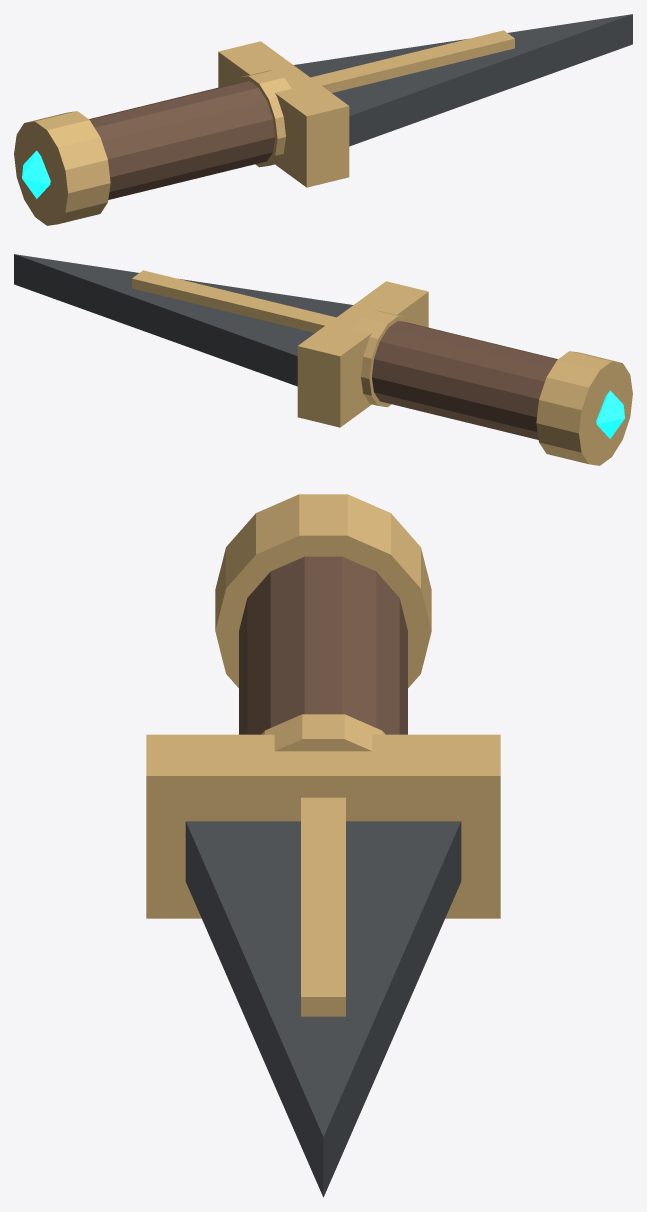
File: SM_MKG_AetherKnife_A01.fbx
3 renders of one model, top to bottom at view 1: azimuth 30°, elevation 25°; view 2: azimuth 150°, elevation 25°; view 3: azimuth 270°, elevation 25°, orthographic. The views are drawn at different scales.
Visible parts, largest first — view 1: Blade_DarkIron_BroadTri, Grip_Leather_Wrap, Guard_Brass_Block, Pommel_Brass_Cap, Blade_Spine_Brass, Grip_Brass_EndBand, Aetherium_Pommel_Inset; view 2: Blade_DarkIron_BroadTri, Grip_Leather_Wrap, Guard_Brass_Block, Pommel_Brass_Cap, Blade_Spine_Brass, Grip_Brass_EndBand, Aetherium_Pommel_Inset; view 3: Blade_DarkIron_BroadTri, Guard_Brass_Block, Grip_Leather_Wrap, Pommel_Brass_Cap, Blade_Spine_Brass, Grip_Brass_EndBand.
Part boxes in pixels (x1,y1,x2,y2): Blade_DarkIron_BroadTri: [294, 14, 632, 146]; Grip_Leather_Wrap: [89, 81, 274, 199]; Guard_Brass_Block: [218, 41, 349, 187]; Pommel_Brass_Cap: [14, 111, 110, 225]; Blade_Spine_Brass: [310, 30, 514, 92]; Grip_Brass_EndBand: [236, 70, 291, 167]; Aetherium_Pommel_Inset: [22, 150, 50, 198]; Blade_DarkIron_BroadTri: [14, 254, 352, 386]; Grip_Leather_Wrap: [372, 321, 557, 439]; Guard_Brass_Block: [297, 281, 428, 427]; Pommel_Brass_Cap: [536, 351, 632, 465]; Blade_Spine_Brass: [132, 270, 336, 332]; Grip_Brass_EndBand: [355, 310, 410, 407]; Aetherium_Pommel_Inset: [596, 390, 624, 438]; Blade_DarkIron_BroadTri: [185, 821, 461, 1197]; Guard_Brass_Block: [146, 734, 500, 918]; Grip_Leather_Wrap: [239, 556, 407, 734]; Pommel_Brass_Cap: [215, 494, 431, 687]; Blade_Spine_Brass: [301, 797, 345, 1016]; Grip_Brass_EndBand: [261, 714, 385, 751].
Size of what is drawn, in the model's own units: 1800 by 7175 by 1072.
